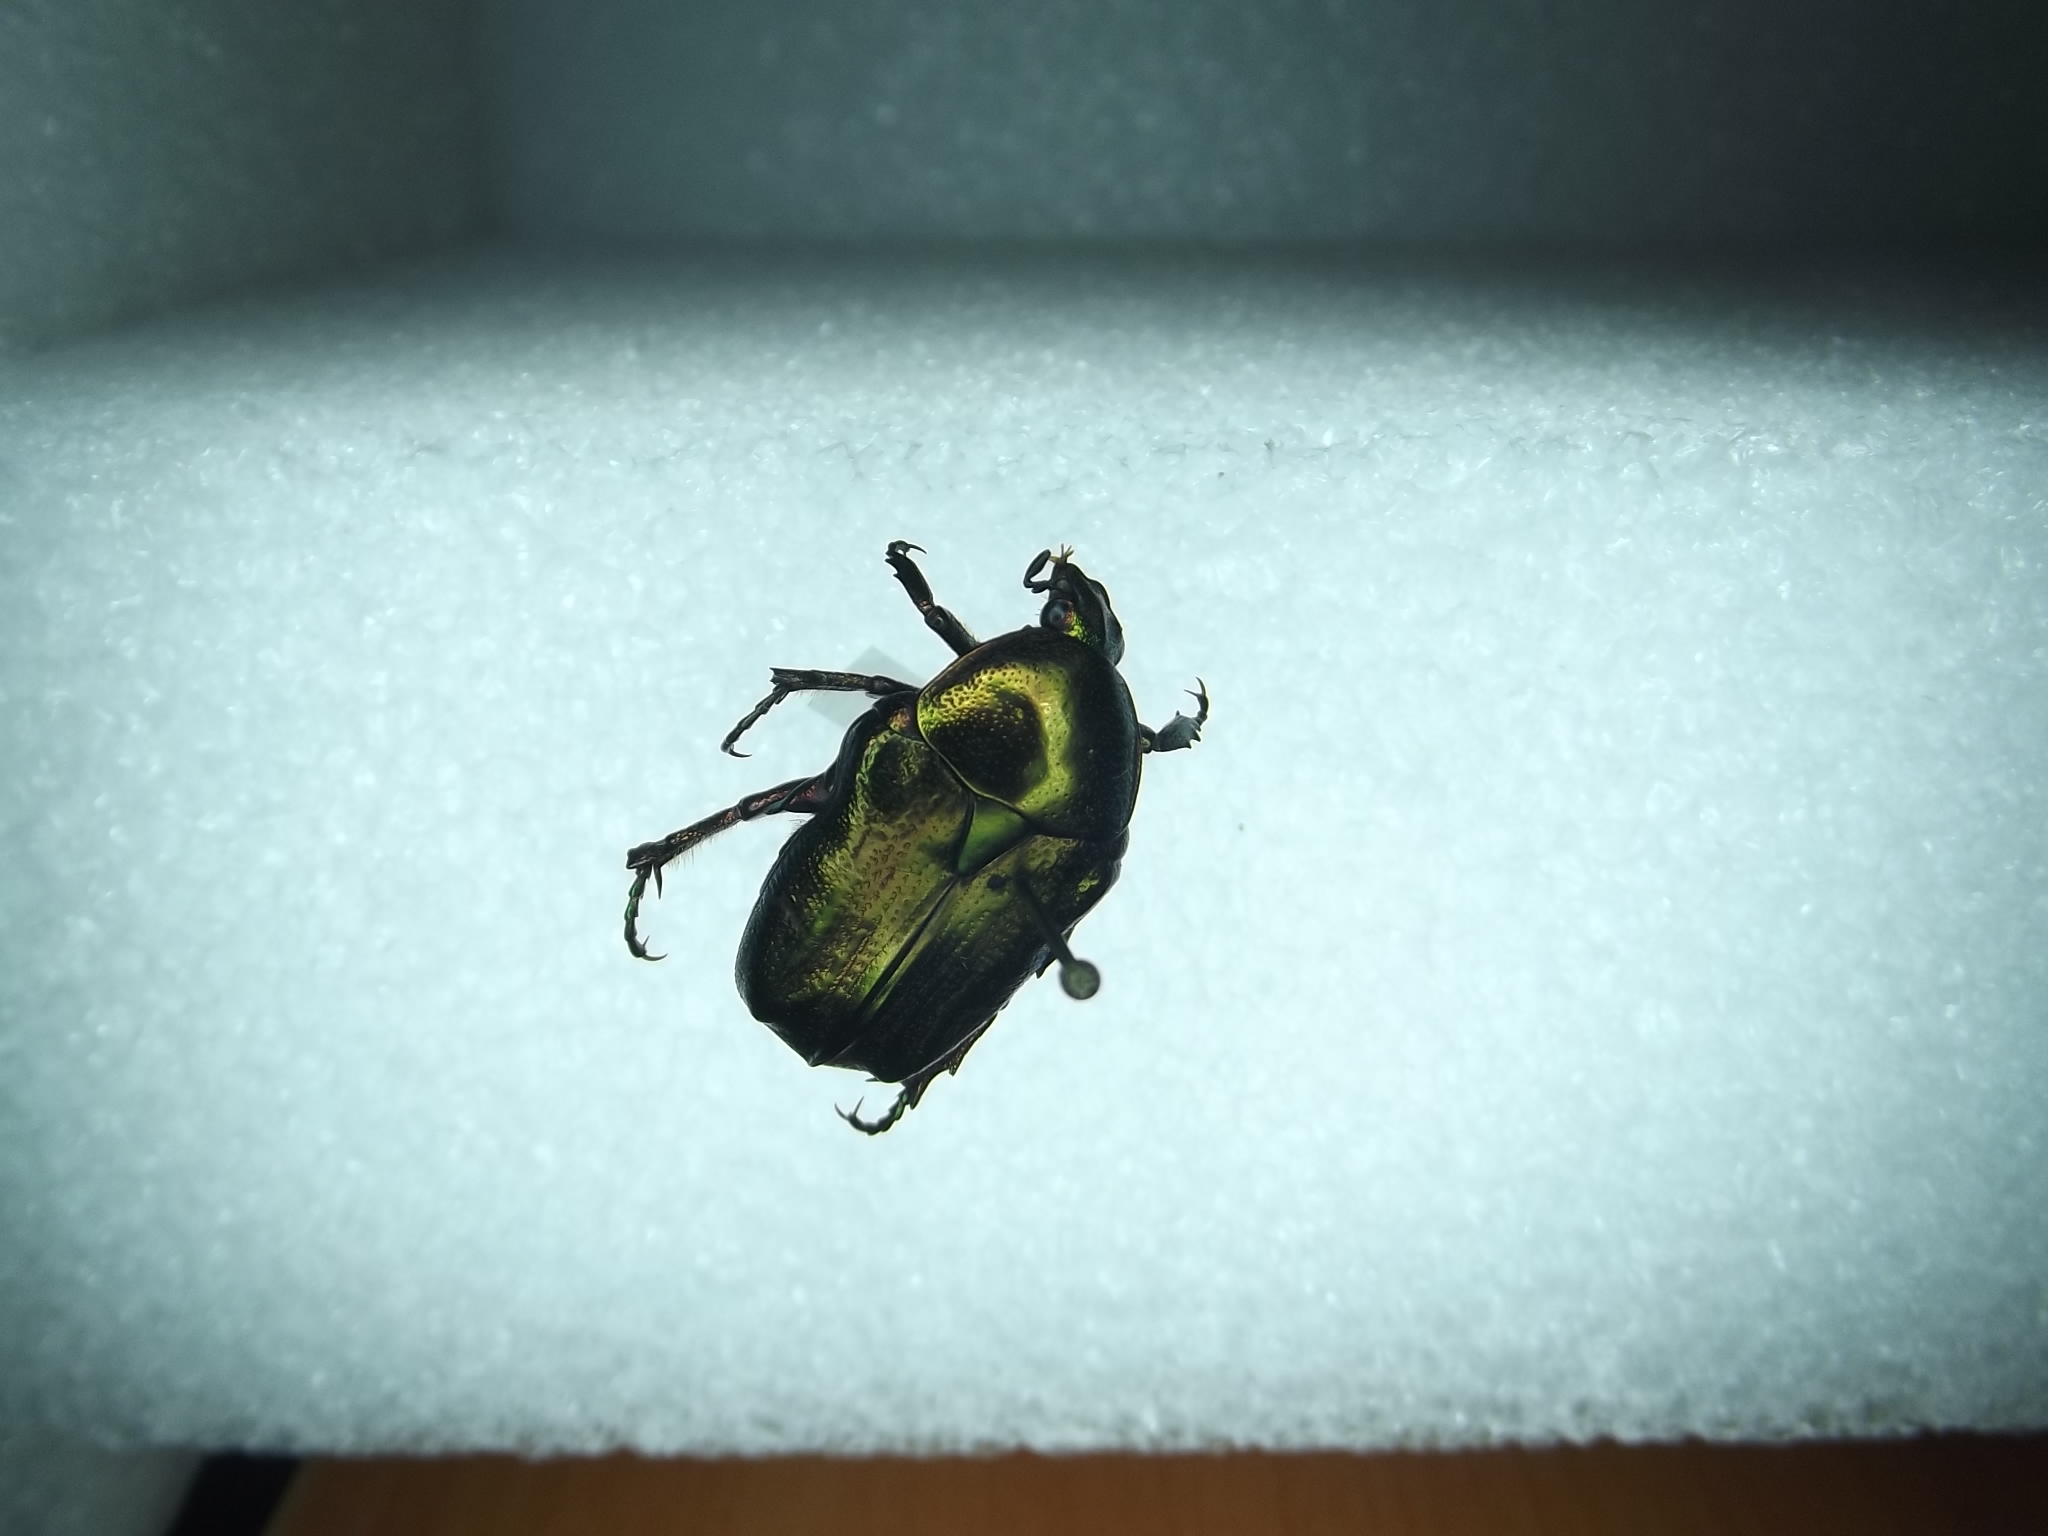Cetonia_aurata: (600, 502, 1214, 1146)
